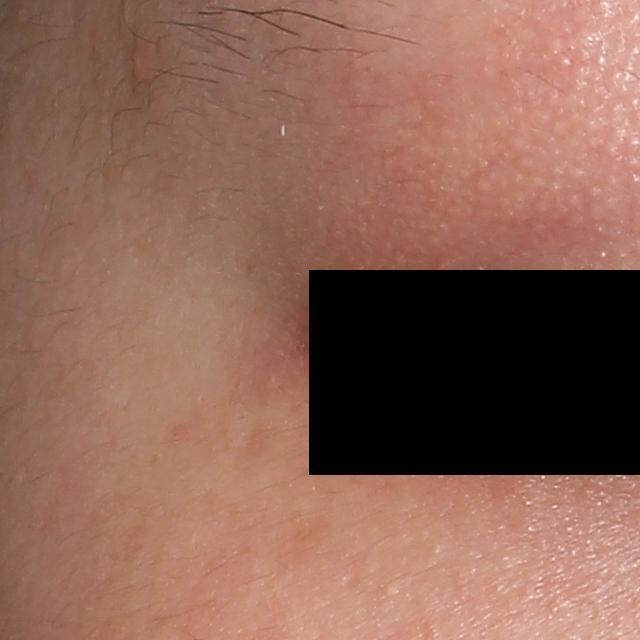papule: (126, 45, 156, 86)
